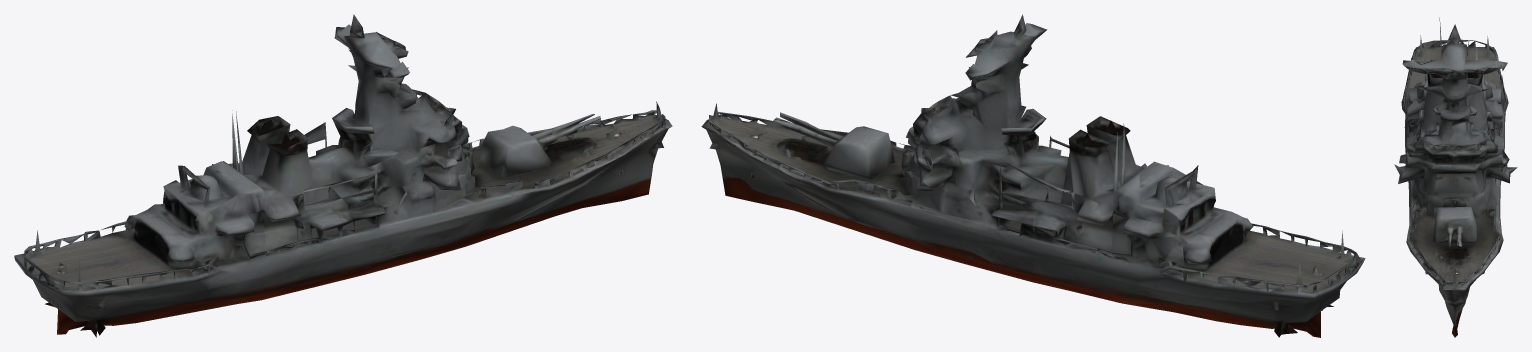
The model's file is destroyer.glb.
The picture shows the model from 3 angles, left to right: view 1: azimuth 30°, elevation 25°; view 2: azimuth 150°, elevation 25°; view 3: azimuth 270°, elevation 25°; orthographic projection. The views are drawn at different scales.
Parts seen in each view (by area): view 1: tripo_node_497e8a83-8f61-48f1-a93c-6c60b997bdfc; view 2: tripo_node_497e8a83-8f61-48f1-a93c-6c60b997bdfc; view 3: tripo_node_497e8a83-8f61-48f1-a93c-6c60b997bdfc.
Part boxes in pixels (x1,y1,x2,y2): tripo_node_497e8a83-8f61-48f1-a93c-6c60b997bdfc: [14, 14, 672, 337]; tripo_node_497e8a83-8f61-48f1-a93c-6c60b997bdfc: [701, 14, 1365, 337]; tripo_node_497e8a83-8f61-48f1-a93c-6c60b997bdfc: [1394, 17, 1517, 337].
Size of the model in its own units: 1 by 0.3802 by 0.2133.
Materials: 1 (1 with a texture image).
